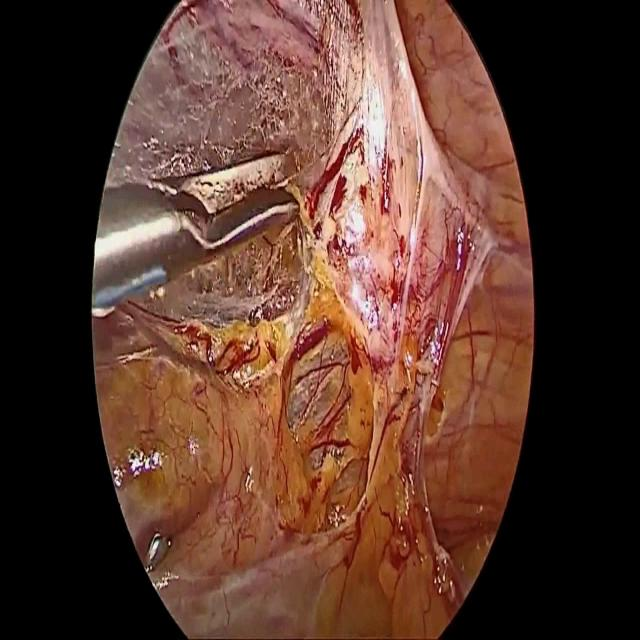surgical-area: (91, 0, 533, 639)
surgical-tool: (91, 148, 298, 320)
